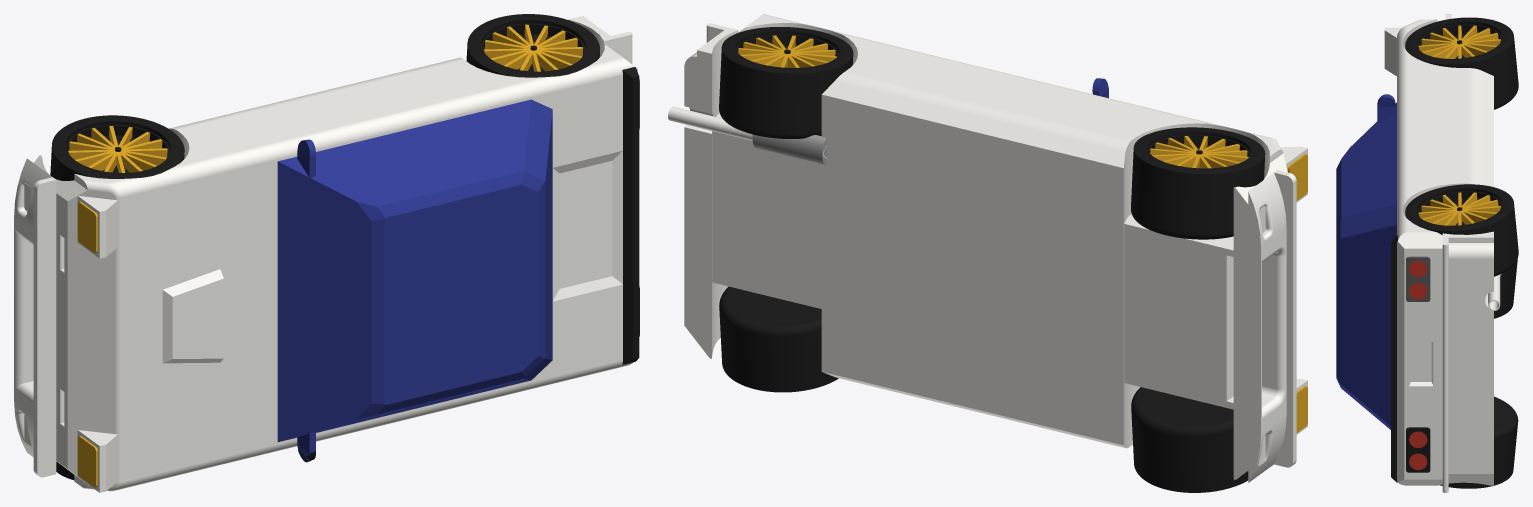
File: car-2 v7.fbx
3 renders of one model, left to right at view 1: azimuth 30°, elevation 25°; view 2: azimuth 150°, elevation 25°; view 3: azimuth 270°, elevation 25°, orthographic. The views are drawn at different scales.
Parts seen in each view (by area): view 1: Body17, Body43, Body3, Body45, Body18, Body37, Body31, Body7, Body8, Body39, Body33, Body32 (+7 smaller); view 2: Body17, Body3, Body37, Body31, Body25, Body19, Body46; view 3: Body17, Body43, Body37, Body31, Body25, Body18, Body19, Body11, Body14, Body8, Body34, Body40 (+10 smaller).
Boxes of the visible parts, x1,y1,x2,y2 form: Body17: (30,16,637,491); Body43: (277,99,552,462); Body3: (14,158,56,477); Body45: (162,269,223,363); Body18: (622,67,639,364); Body37: (50,115,184,180); Body31: (466,14,599,77); Body7: (77,430,117,492); Body8: (77,196,117,258); Body39: (75,128,162,172); Body33: (490,26,577,71); Body32: (492,30,572,69); Body17: (668,14,1287,479); Body3: (1248,170,1296,482); Body37: (1131,127,1265,239); Body31: (719,27,853,138); Body25: (719,286,838,392); Body19: (1131,387,1248,492); Body46: (752,134,826,165); Body17: (1397,19,1500,492); Body43: (1336,94,1396,429); Body37: (1405,17,1518,109); Body31: (1405,184,1518,276); Body25: (1440,396,1518,488); Body18: (1391,235,1397,482); Body19: (1494,258,1517,318); Body11: (1406,427,1430,472); Body14: (1406,256,1430,301); Body8: (1384,27,1401,76); Body34: (1421,192,1496,225); Body40: (1421,25,1496,58).
Bounding box in the file's own units: 94 × 48.4 × 30.05.
